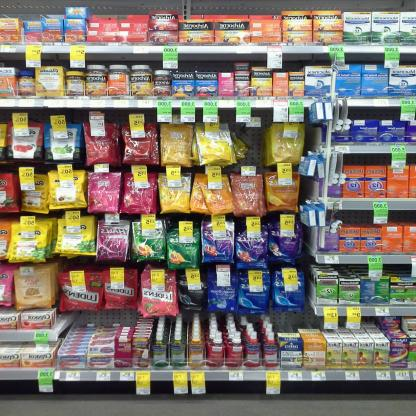empty_space: (233, 116, 265, 173)
